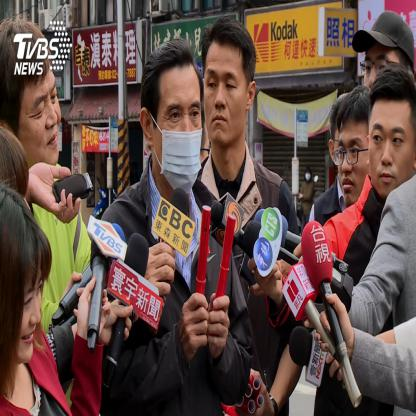Not_Wearing_Mask: (367, 120, 415, 199), (204, 64, 248, 147), (26, 78, 62, 164), (16, 272, 42, 367), (336, 133, 366, 205)
Wearing_Mask: (158, 96, 203, 197)
